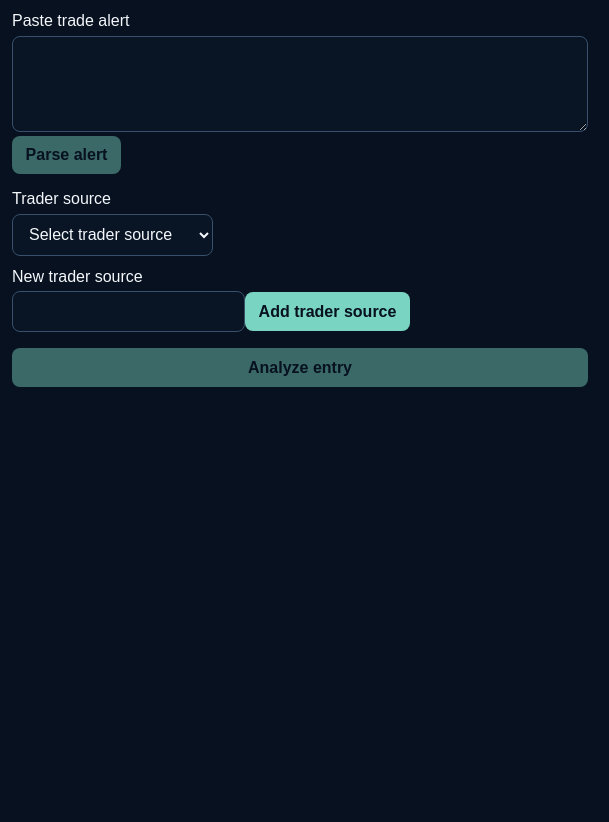
AlertPasteForm › keeps analysis disabled and names missing critical fields
The width and height of the screenshot is (609, 822).
Type "NBIS 8/14 @2.98" into the text box labelled "Paste trade alert" at coordinates (300, 84), box [12,36,588,132]
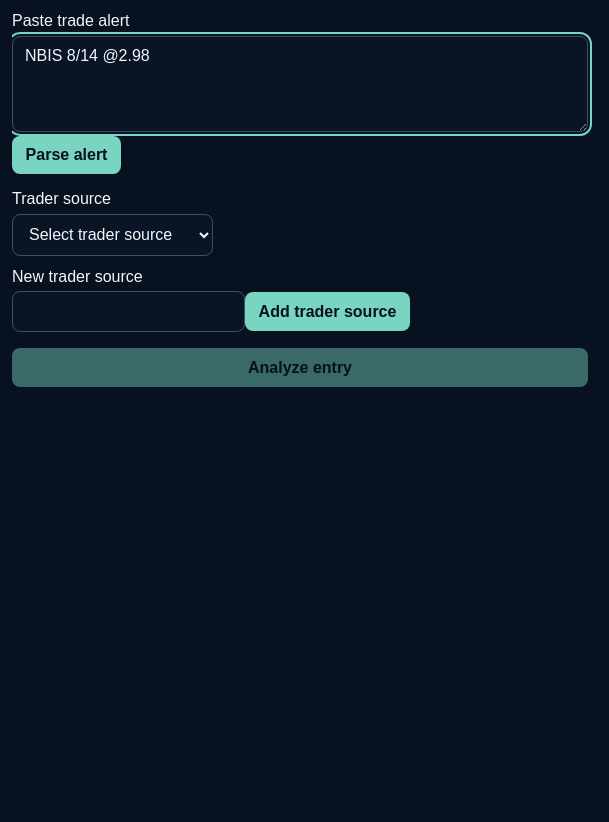
Click the button "Parse alert" at coordinates (66, 155), box [12,136,121,174]
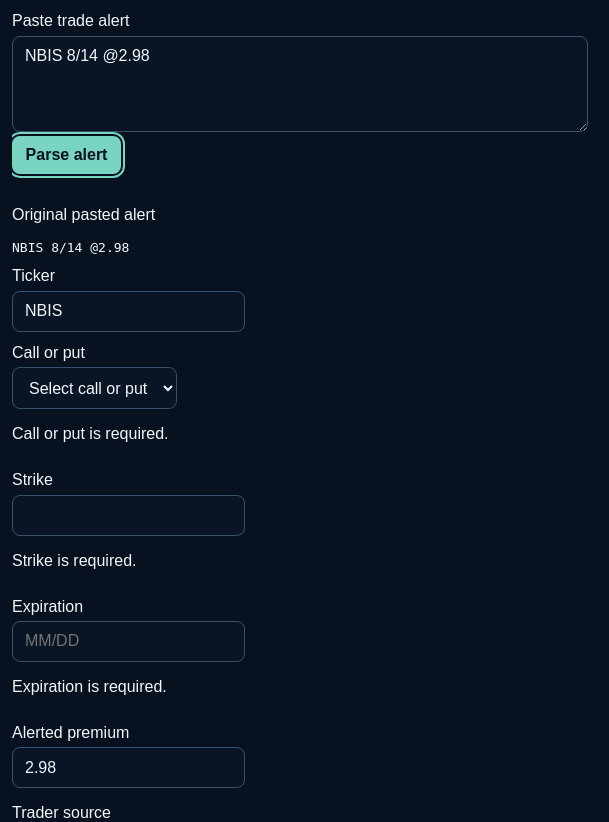
Expected: the text "Strike is required." is shown, [12,552,136,568]
Expected: the text "Call or put is required." is shown, [12,425,168,442]
